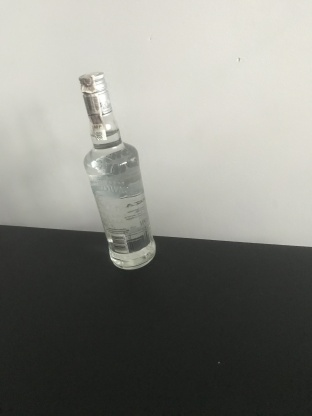nakretka: (77, 69, 113, 118)
